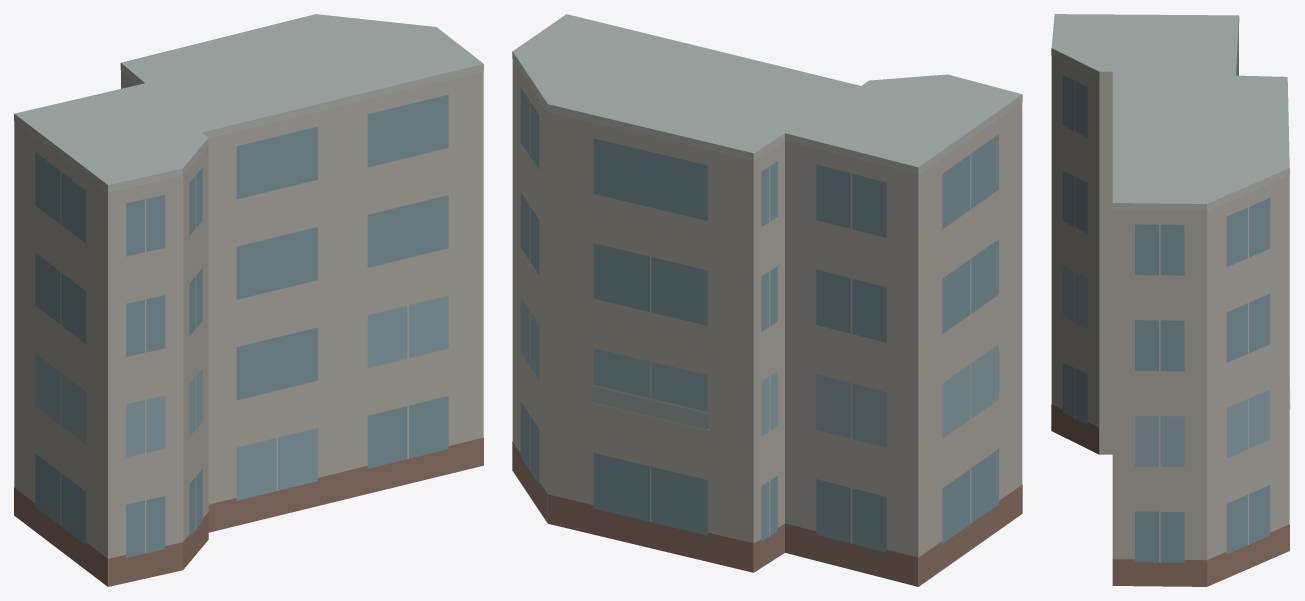
The model's file is survey-upis-32487115.glb.
3 renders of one model, left to right at view 1: azimuth 30°, elevation 25°; view 2: azimuth 150°, elevation 25°; view 3: azimuth 270°, elevation 25°, orthographic. The views are drawn at different scales.
Visible parts, largest first — view 1: survey-upis-32487115.tmp; view 2: survey-upis-32487115.tmp; view 3: survey-upis-32487115.tmp.
Part boxes in pixels (x1=…): survey-upis-32487115.tmp: x1=14, y1=14, x2=483, y2=586; survey-upis-32487115.tmp: x1=512, y1=14, x2=1022, y2=586; survey-upis-32487115.tmp: x1=1051, y1=14, x2=1290, y2=586.
Size of the model in its own units: 13.84 by 13 by 7.36.
